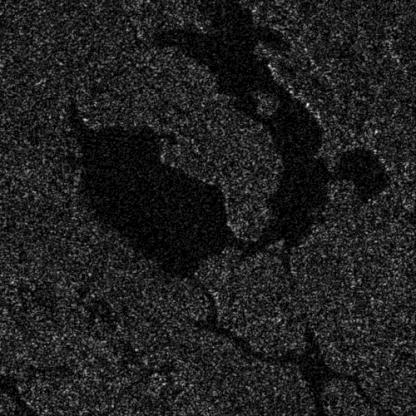oil: (21, 0, 402, 301)
